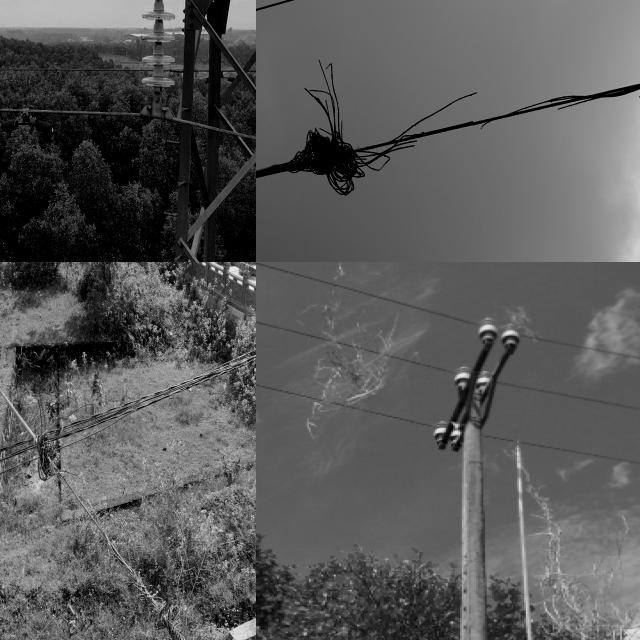杆塔: (134, 0, 256, 262)
植被遮挡: (282, 291, 416, 454), (498, 300, 546, 347)
正常电缆: (0, 96, 256, 150)
正常绝缘子: (136, 0, 186, 122)
电缆破损: (267, 13, 640, 222), (29, 392, 202, 640)
